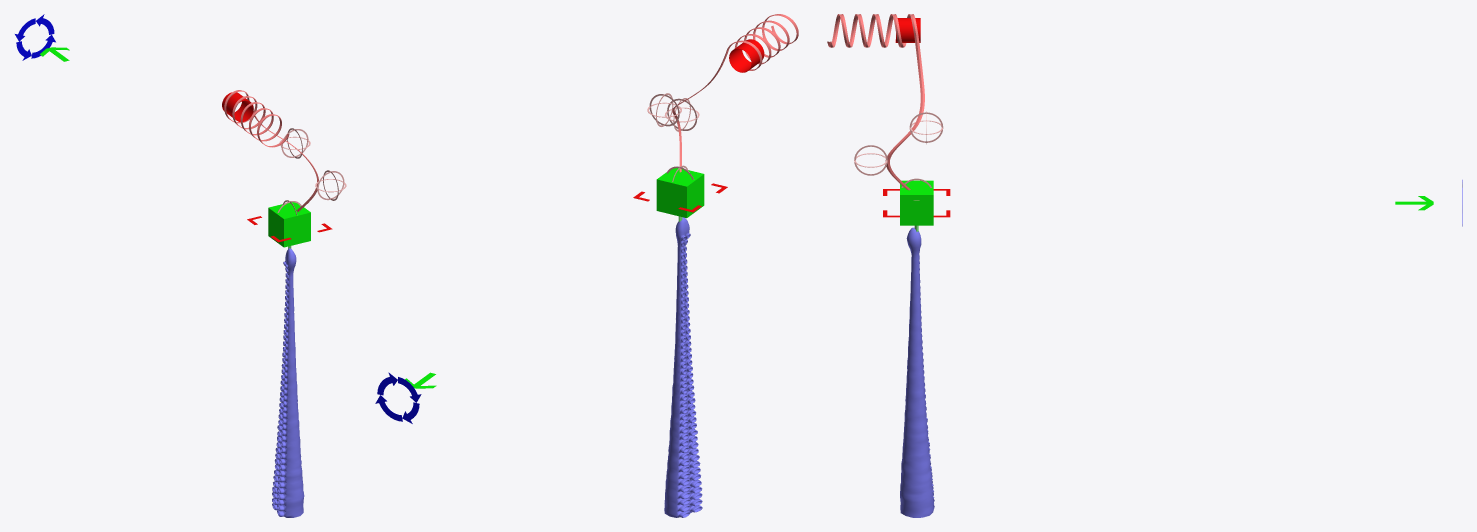
Rendered from tentacle_Attackfbx.fbx.
The picture shows the model from 3 angles, left to right: view 1: azimuth 30°, elevation 25°; view 2: azimuth 150°, elevation 25°; view 3: azimuth 270°, elevation 25°; orthographic projection. The views are drawn at different scales.
Visible parts, largest first — view 1: tentacle.001, Cube.Material, main.path, placer.tentacle, tentacle.rotate; view 2: tentacle.001, Cube.Material, main.path, placer.tentacle, tentacle.rotate; view 3: tentacle.001, main.path, Cube.Material, placer.tentacle.
Part boxes in pixels (x1,y1,x2,y2): tentacle.001: (272, 248, 304, 517); Cube.Material: (268, 202, 310, 247); main.path: (224, 90, 318, 211); placer.tentacle: (222, 92, 332, 242); tentacle.rotate: (15, 14, 55, 60); tentacle.001: (664, 217, 702, 517); Cube.Material: (656, 168, 704, 218); main.path: (672, 14, 798, 172); placer.tentacle: (633, 39, 764, 212); tentacle.rotate: (375, 372, 421, 423); tentacle.001: (900, 227, 934, 517); main.path: (827, 14, 924, 190); Cube.Material: (900, 180, 933, 225); placer.tentacle: (883, 18, 950, 217).
Bounding box in the file's own units: 751 × 3059 × 3774.
